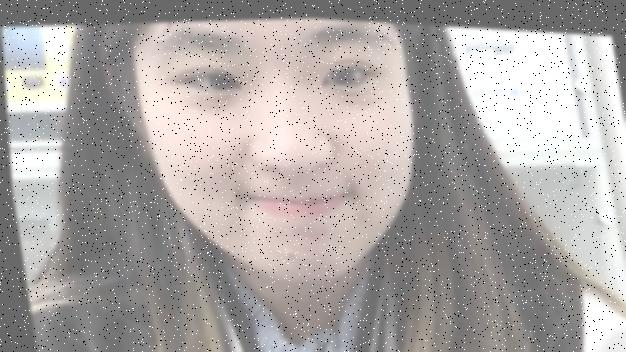eye: (332, 63, 354, 82), (210, 71, 230, 87)
iris: (183, 67, 237, 93), (324, 61, 367, 85)
